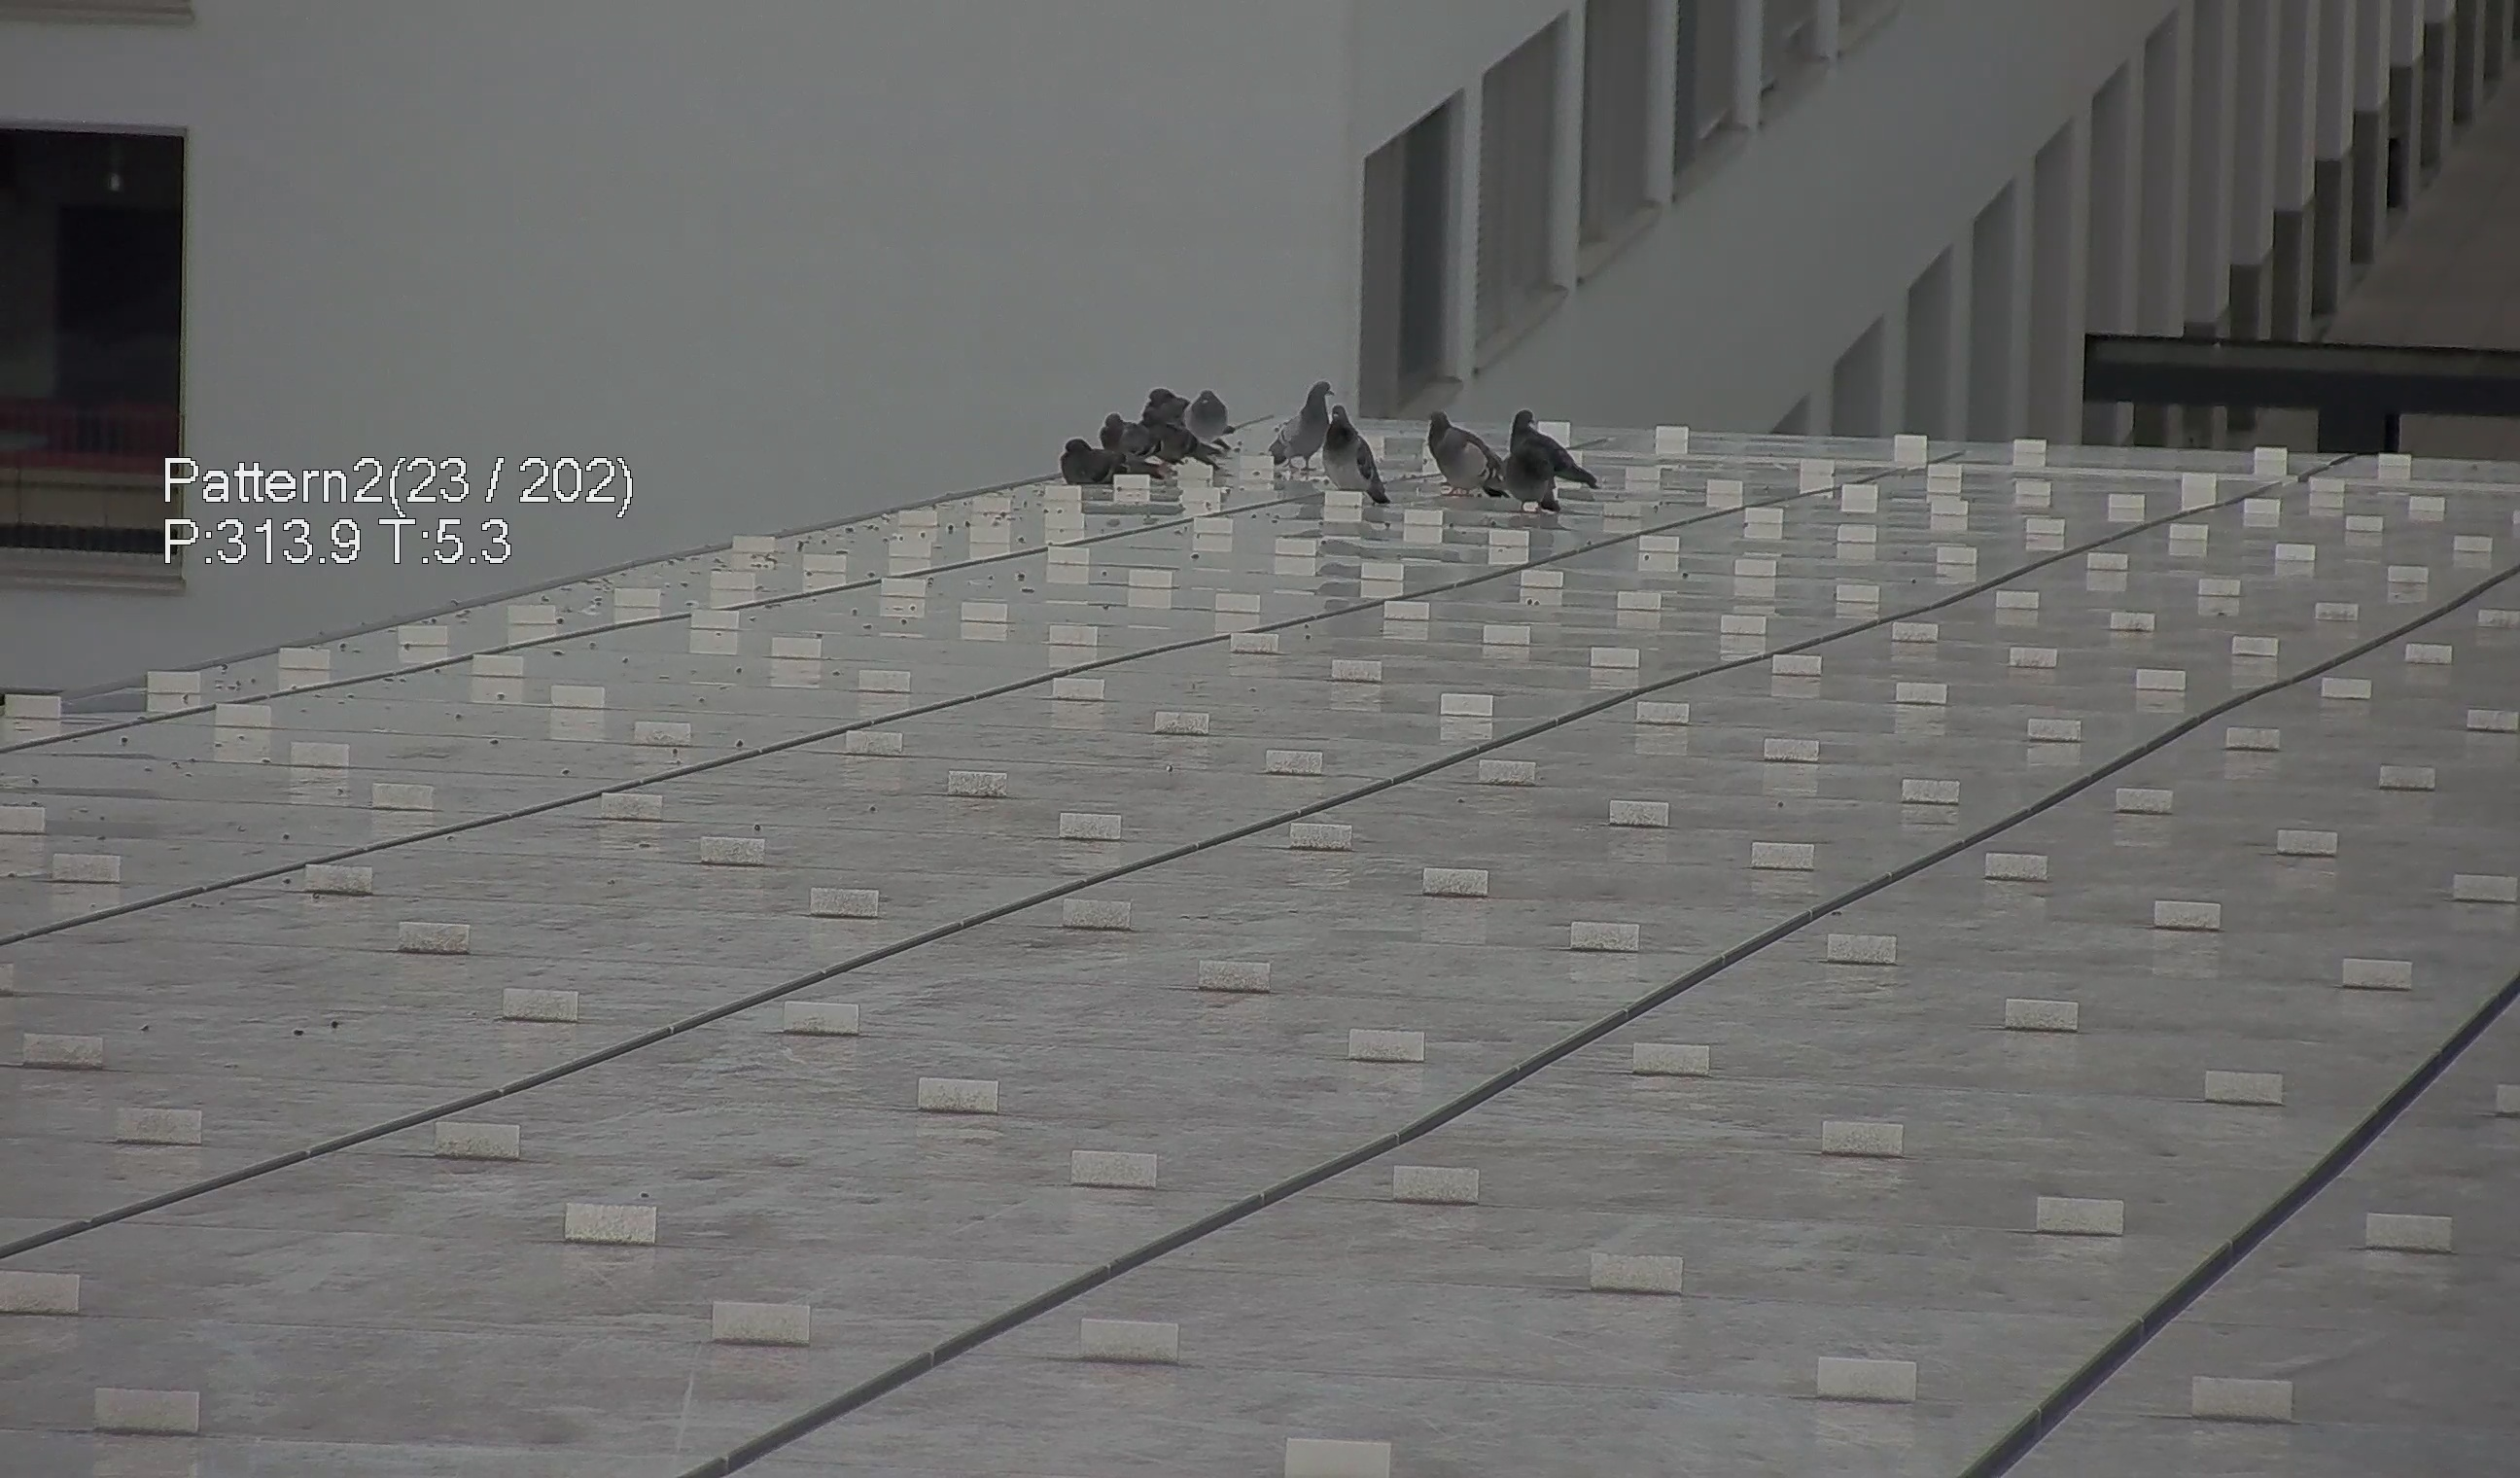Pigeon: (1504, 403, 1597, 487), (1319, 401, 1393, 505), (1041, 433, 1166, 491), (1264, 373, 1333, 475), (1099, 408, 1194, 466), (1500, 438, 1556, 512), (1430, 429, 1491, 496), (1185, 380, 1236, 454), (1419, 401, 1456, 459), (1140, 380, 1184, 426)
